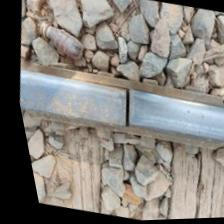person: (88, 78, 158, 141)
